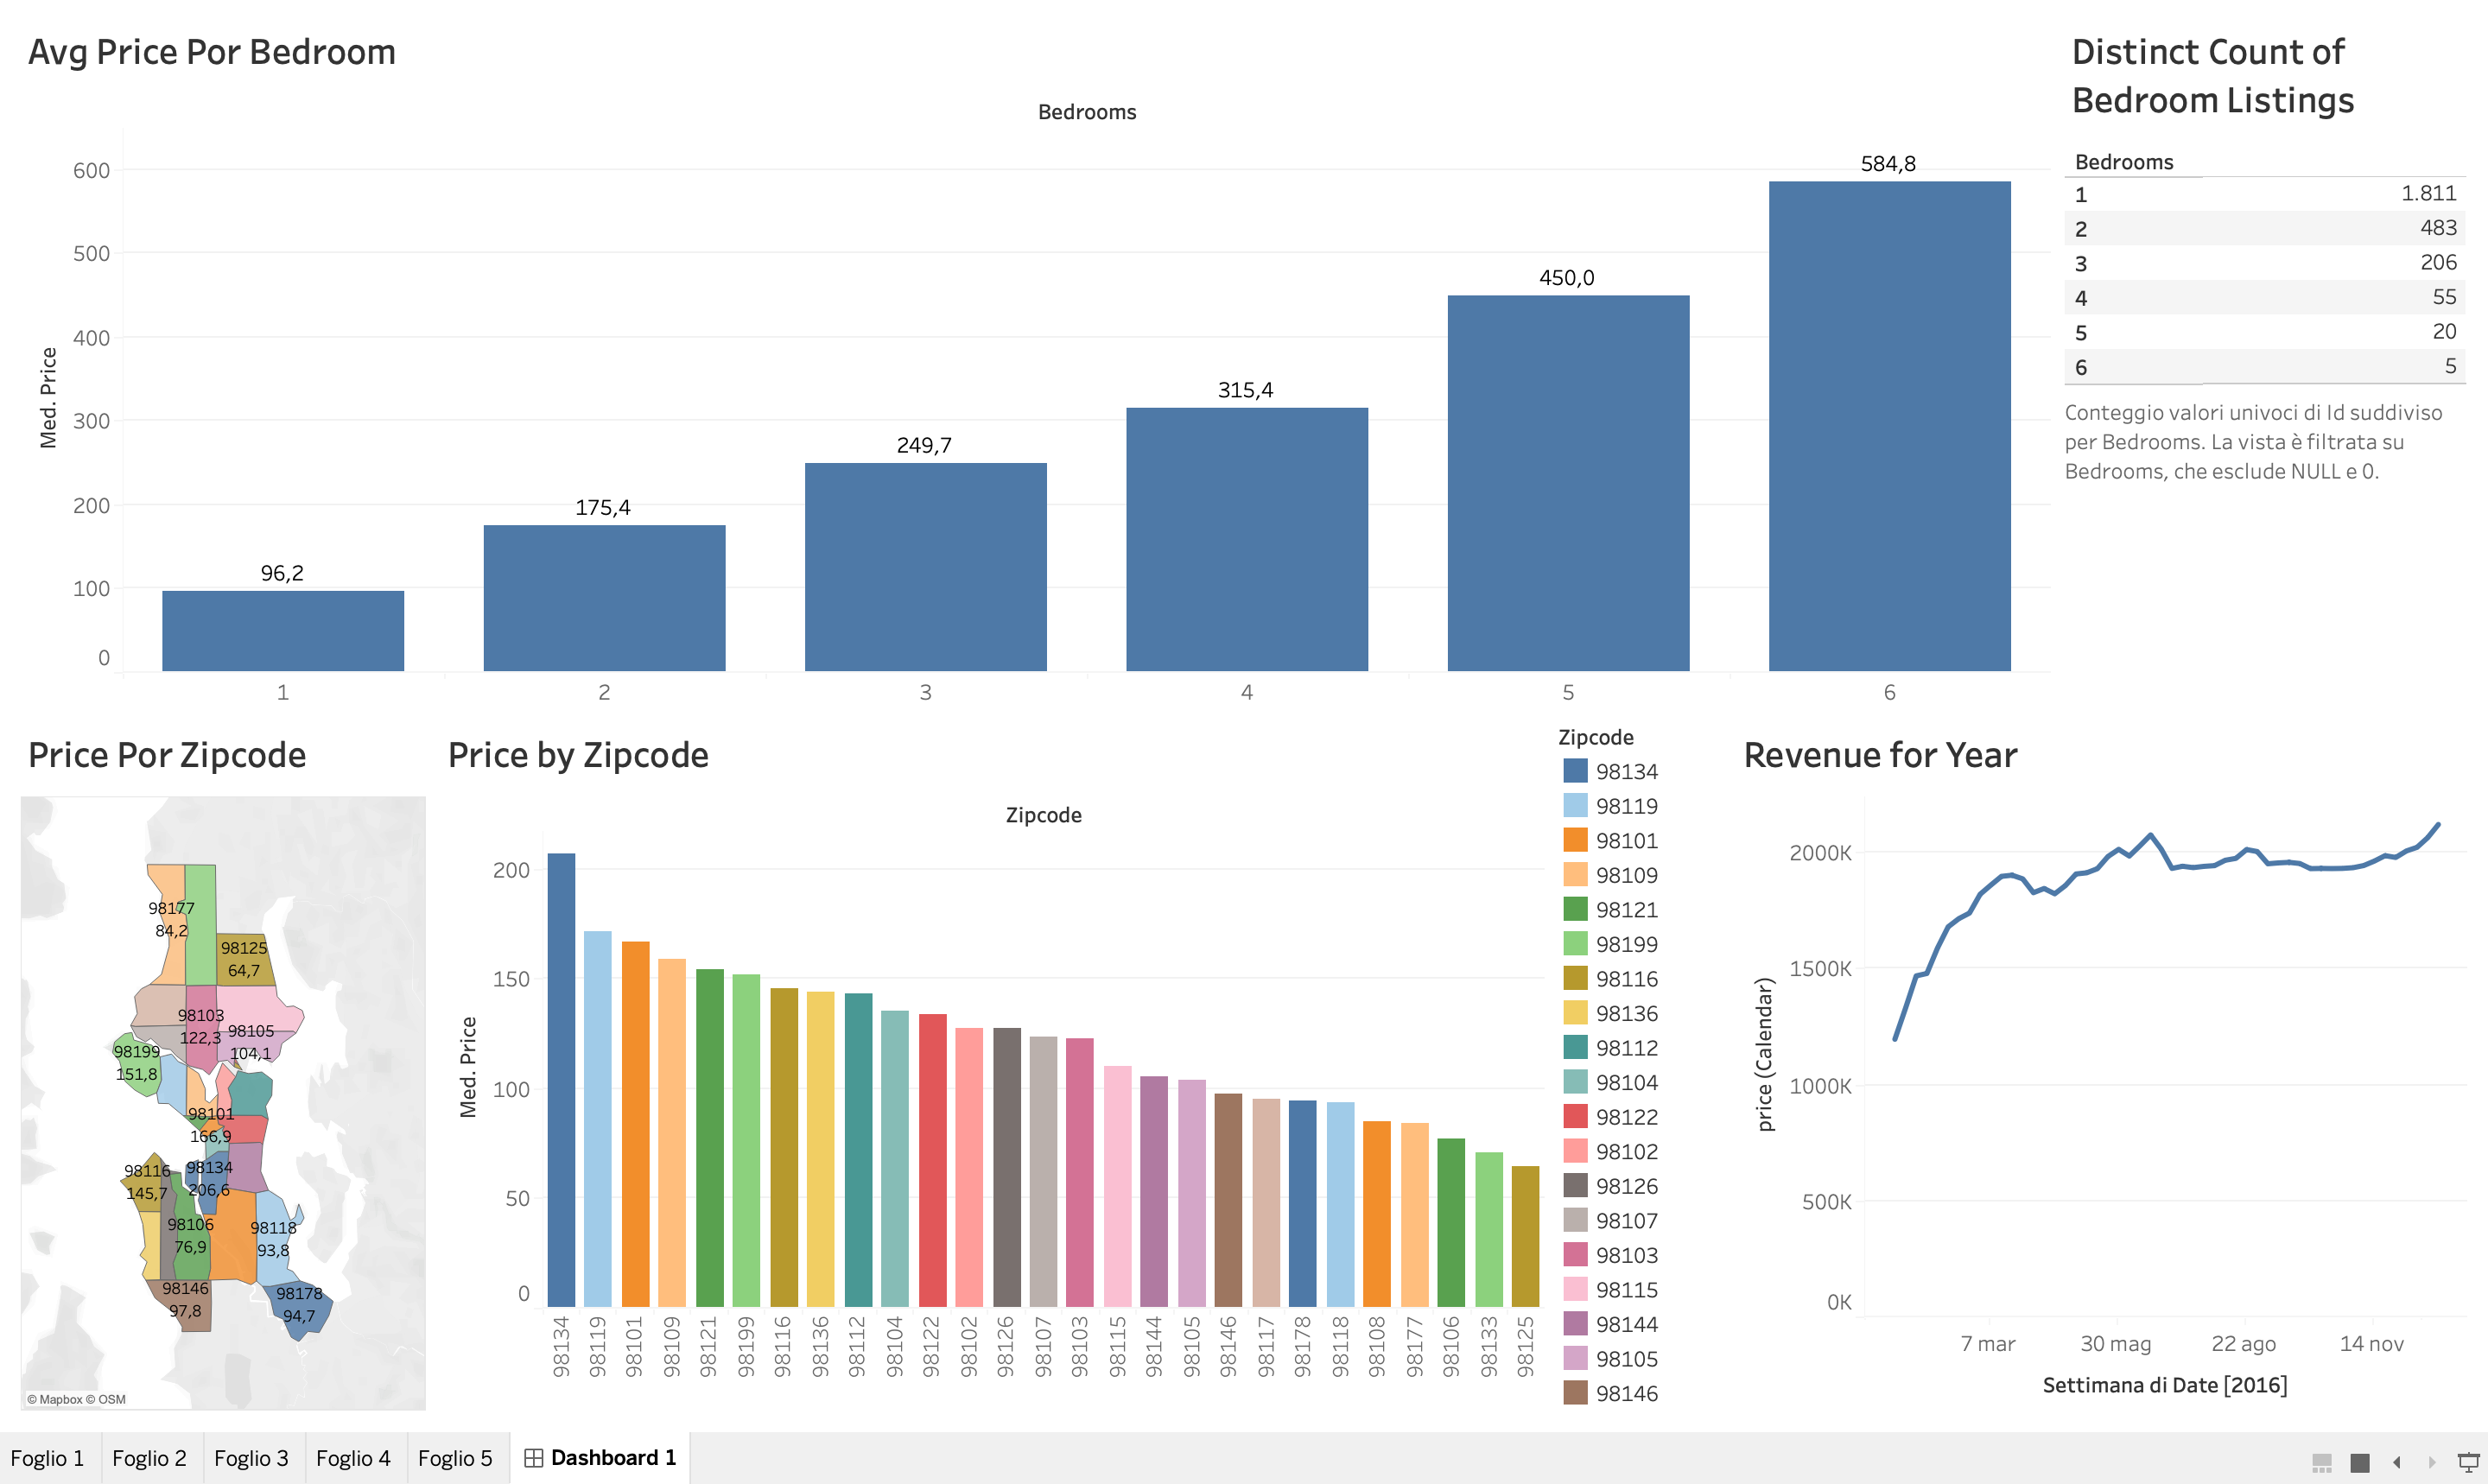

Layout of this report page (visuals, bound fields, positions):
{"tool":"tableau","page":{"name":"Dashboard 1","canvas":[1000,1000],"units":"permille","ordinal":0},"visuals":[{"type":"worksheet","title":"Foglio 4","mark":"Automatic","rows":["price"],"cols":["bedrooms"],"box":[6.5,12.6,820.2,487.4]},{"type":"worksheet","title":"Foglio 5","mark":"Automatic","rows":["bedrooms"],"box":[826.7,12.6,166.8,487.4]},{"type":"worksheet","title":"Foglio 2","mark":"Multipolygon","box":[6.5,500,168.4,487.4]},{"type":"worksheet","title":"Foglio 1","mark":"Automatic","rows":["price"],"cols":["zipcode"],"box":[174.9,500,448.4,487.4]},{"type":"legend","title":"Foglio 1","param":"[federated.14ypke017uxk5v184yi4z1ry3bin].[none:zipcode:ok]","box":[623.4,500,71.5,487.4]},{"type":"worksheet","title":"Foglio 3","mark":"Automatic","rows":["price (Calendar)"],"cols":["date"],"box":[694.9,500,298.6,487.4]}]}

Visuals, with their boxes on the dashboard's canvas, which has no fixed pixel size, in thousandths of its width and height (x1, y1, x2, y2). These are canvas units, not pixel positions in the 2488x1484 screenshot, which may show the page scaled, cropped or inside an application window:
"Foglio 4" worksheet: left=6, top=13, right=827, bottom=500
"Foglio 5" worksheet: left=827, top=13, right=994, bottom=500
"Foglio 2" worksheet (Multipolygon marks): left=6, top=500, right=175, bottom=987
"Foglio 1" worksheet: left=175, top=500, right=623, bottom=987
"Foglio 1" legend: left=623, top=500, right=695, bottom=987
"Foglio 3" worksheet: left=695, top=500, right=994, bottom=987
